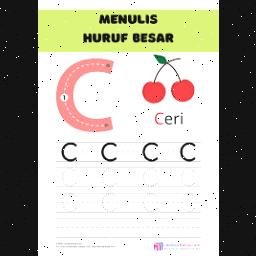c: (50, 52, 124, 136), (94, 140, 124, 168), (173, 136, 197, 166), (53, 141, 79, 167), (137, 137, 161, 165), (148, 108, 164, 130)
